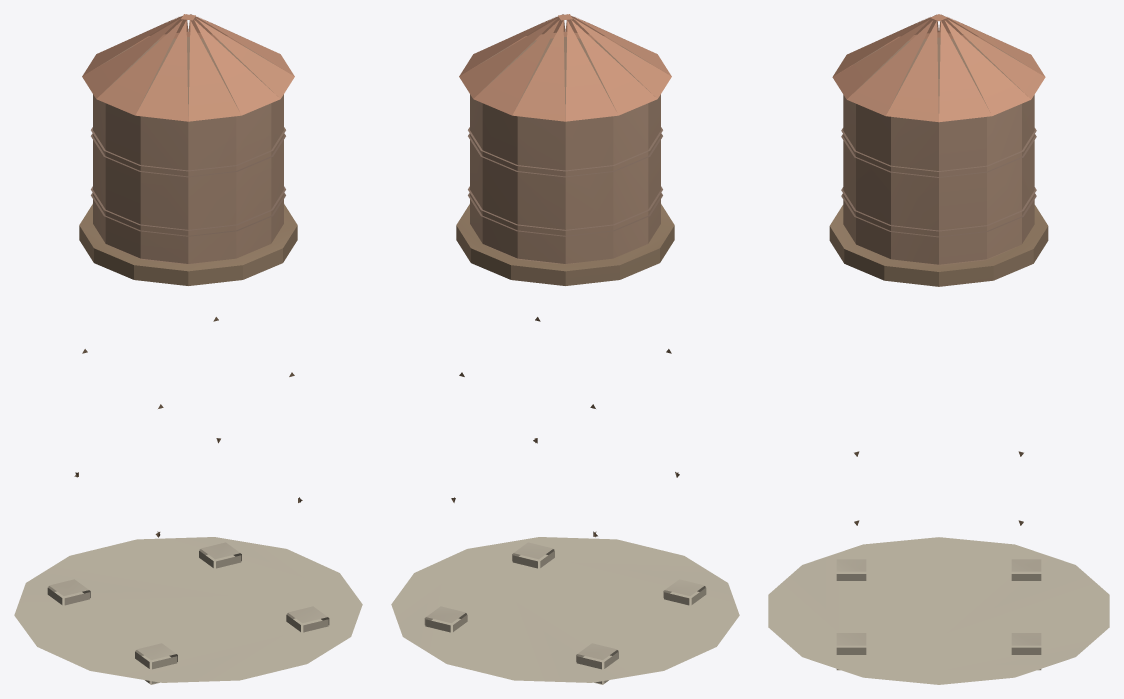
Rendered from water_tower.lod.glb.
3 views of the same model, side by side, from view 1: azimuth 30°, elevation 25°; view 2: azimuth 150°, elevation 25°; view 3: azimuth 270°, elevation 25° (orthographic).
Parts seen in each view (by area): view 1: water_tower; view 2: water_tower; view 3: water_tower.
Boxes of the visible parts, x1=… form: water_tower: x1=14, y1=14, x2=362, y2=684; water_tower: x1=391, y1=14, x2=739, y2=684; water_tower: x1=768, y1=14, x2=1109, y2=684.
Bounding box in the file's own units: 6.4 × 12.3 × 6.24.
